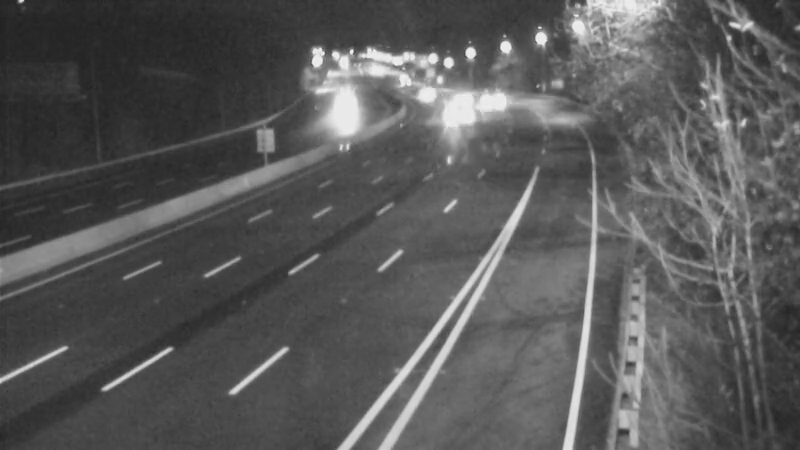vehicle: (381, 57, 431, 107), (403, 76, 453, 126), (437, 79, 487, 129), (466, 78, 516, 128), (423, 101, 473, 151), (317, 82, 367, 132)
